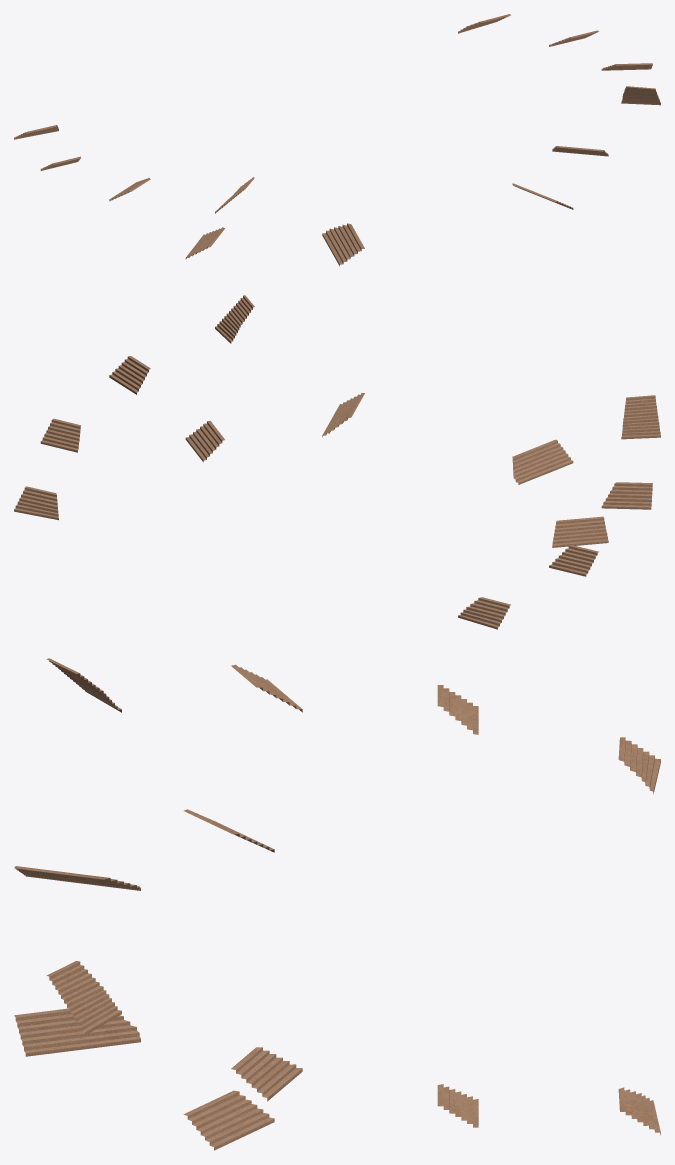
Rendered from SM_SceneMesh_02_Stairs.fbx.
The picture shows the model from 3 angles, top to bottom: view 1: azimuth 30°, elevation 25°; view 2: azimuth 150°, elevation 25°; view 3: azimuth 270°, elevation 25°; orthographic projection. The views are drawn at different scales.
Visible parts, largest first — view 1: SM_SceneMesh_02_Stairs_LOD0; view 2: SM_SceneMesh_02_Stairs_LOD0; view 3: SM_SceneMesh_02_Stairs_LOD0.
Part boxes in pixels (<box>): SM_SceneMesh_02_Stairs_LOD0: <box>14,14,660,266</box>; SM_SceneMesh_02_Stairs_LOD0: <box>14,295,660,629</box>; SM_SceneMesh_02_Stairs_LOD0: <box>14,658,660,1150</box>.
Bounding box in the file's own units: 5102 × 3309 × 960.
Materials: 1 (1 with a texture image).
